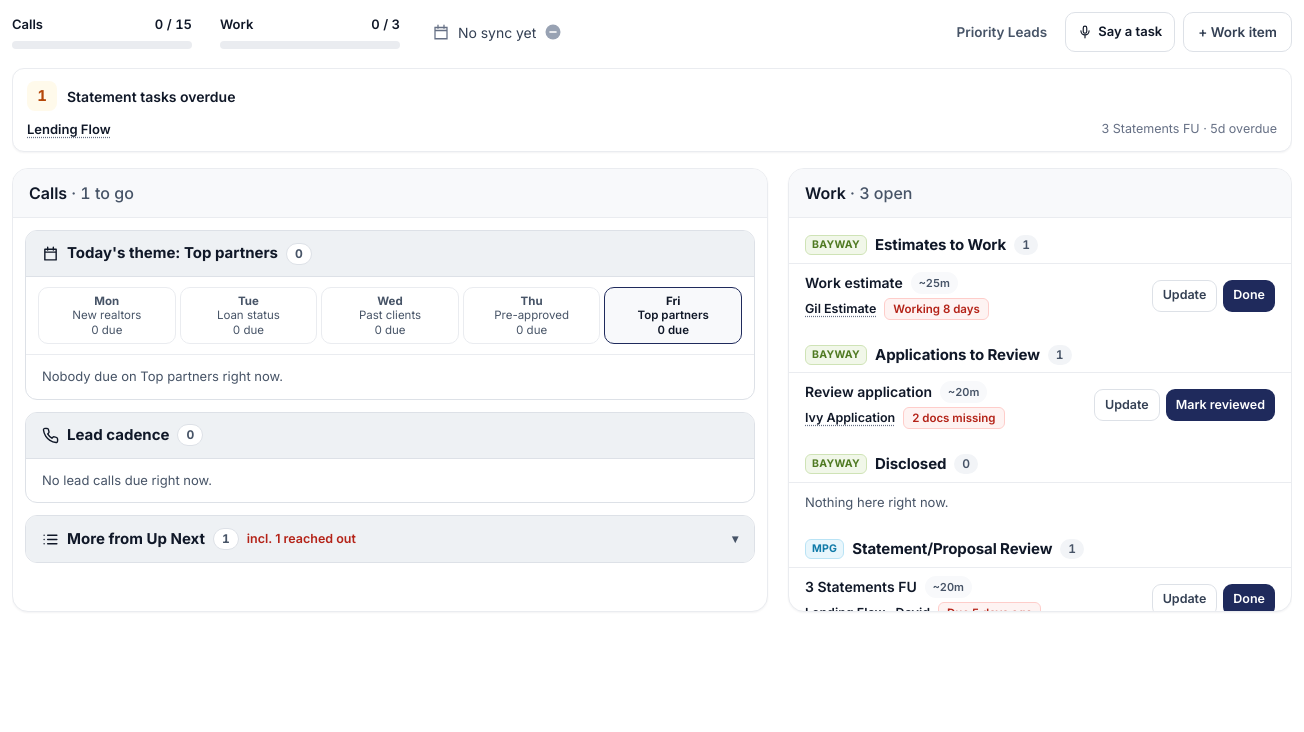
it: Workbench › marks an application reviewed for 3 days
The width and height of the screenshot is (1304, 732).
Click the button "Mark reviewed" at (1220, 405), box [1166,389,1275,421]
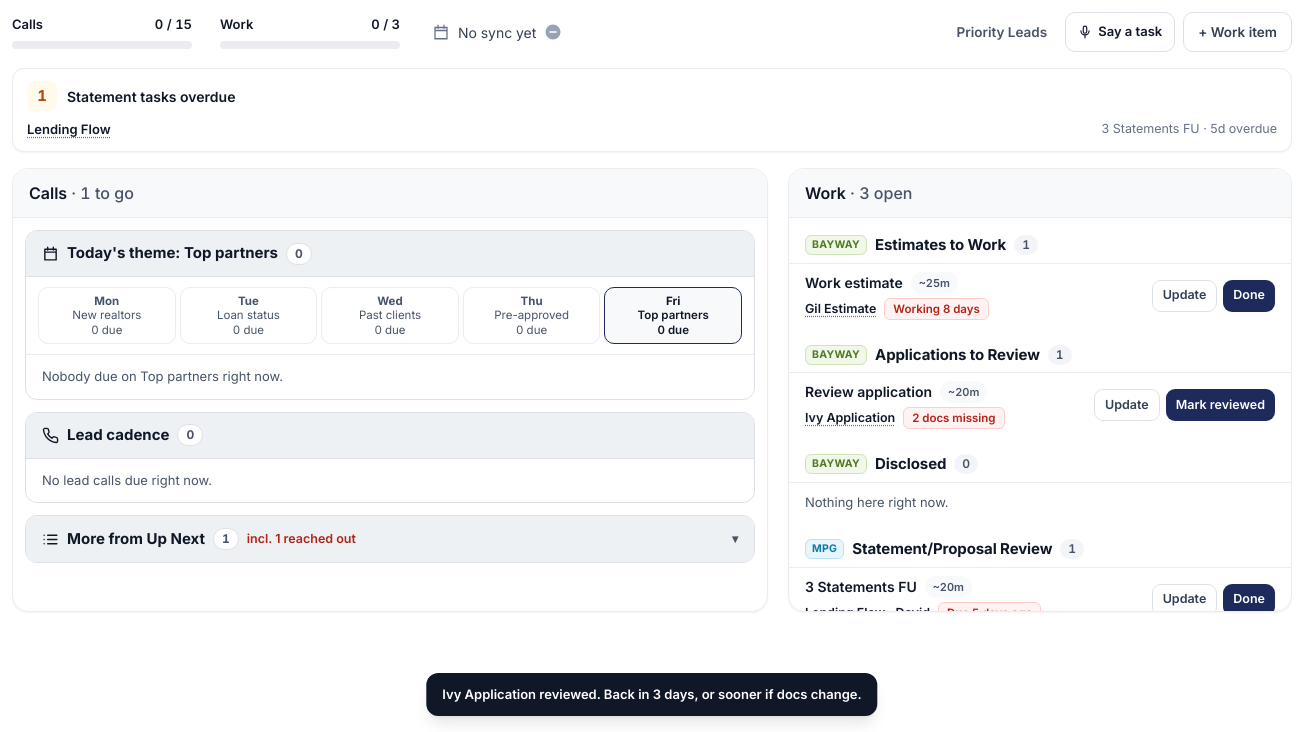
Check: the text "Ivy Application reviewed. Back in 3 days, or sooner if docs change." is shown, box [442,684,862,704]
